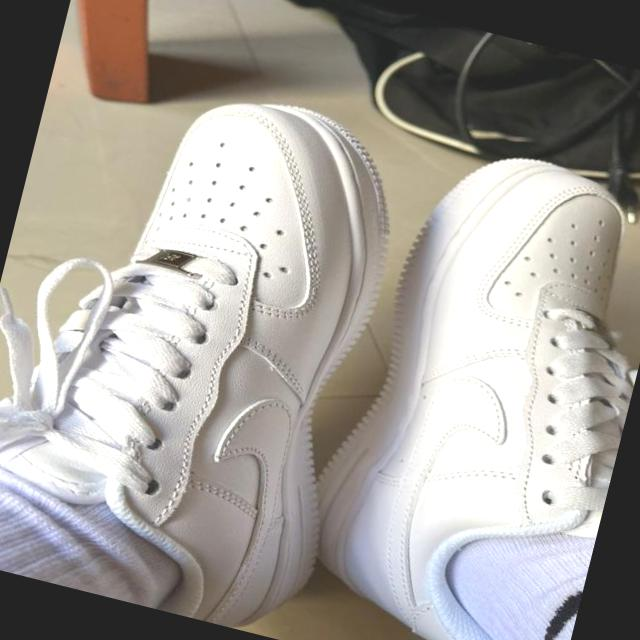nike_original_airforce: (0, 45, 425, 640), (274, 123, 640, 640)
